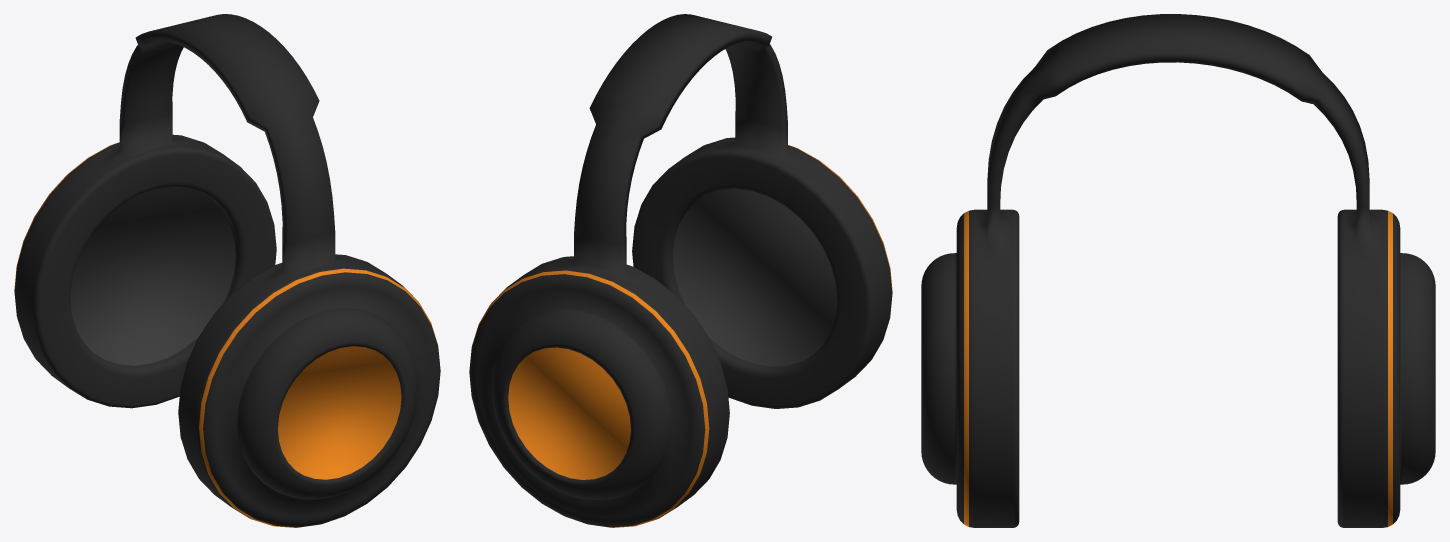
Rendered from Headphones.glb.
The picture shows the model from 3 angles, left to right: view 1: azimuth 30°, elevation 25°; view 2: azimuth 150°, elevation 25°; view 3: azimuth 270°, elevation 25°; orthographic projection. The views are drawn at different scales.
Visible parts, largest first — view 1: Circle.001; view 2: Circle.001; view 3: Circle.001.
Boxes of the visible parts, x1,y1,x2,y2 form: Circle.001: (14,14,440,527); Circle.001: (469,14,892,527); Circle.001: (921,14,1435,527).
Size of the model in its own units: 0.4 by 0.6656 by 0.6459.
